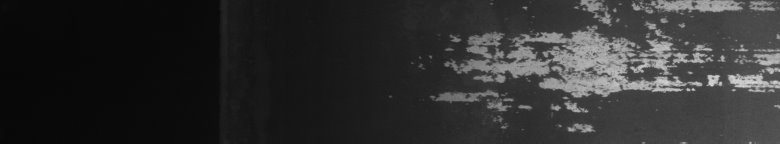kb: (456, 4, 776, 136)
